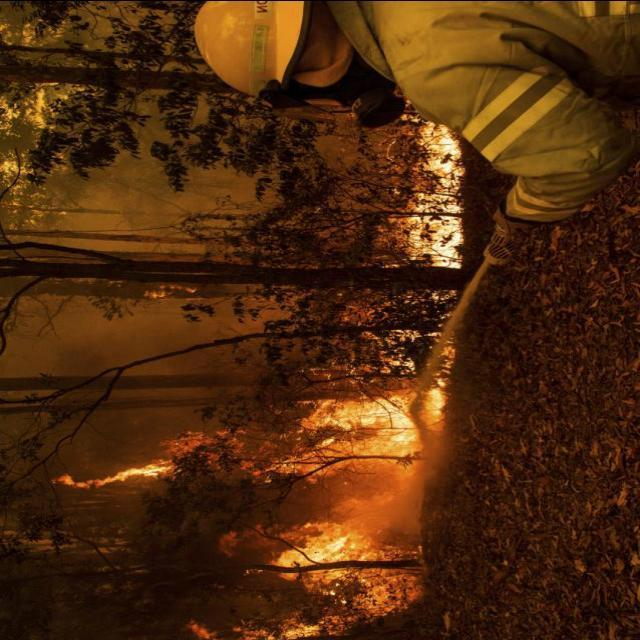Fire: (54, 344, 454, 489), (192, 525, 428, 638), (382, 110, 466, 268)
